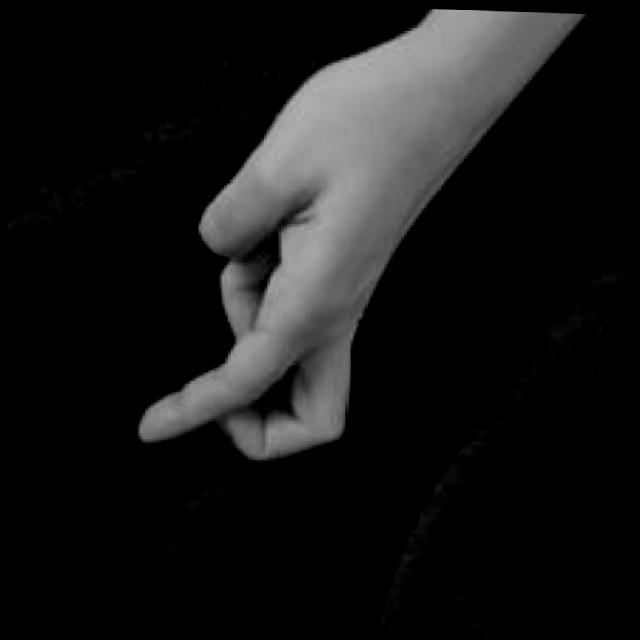P: (126, 97, 434, 474)
